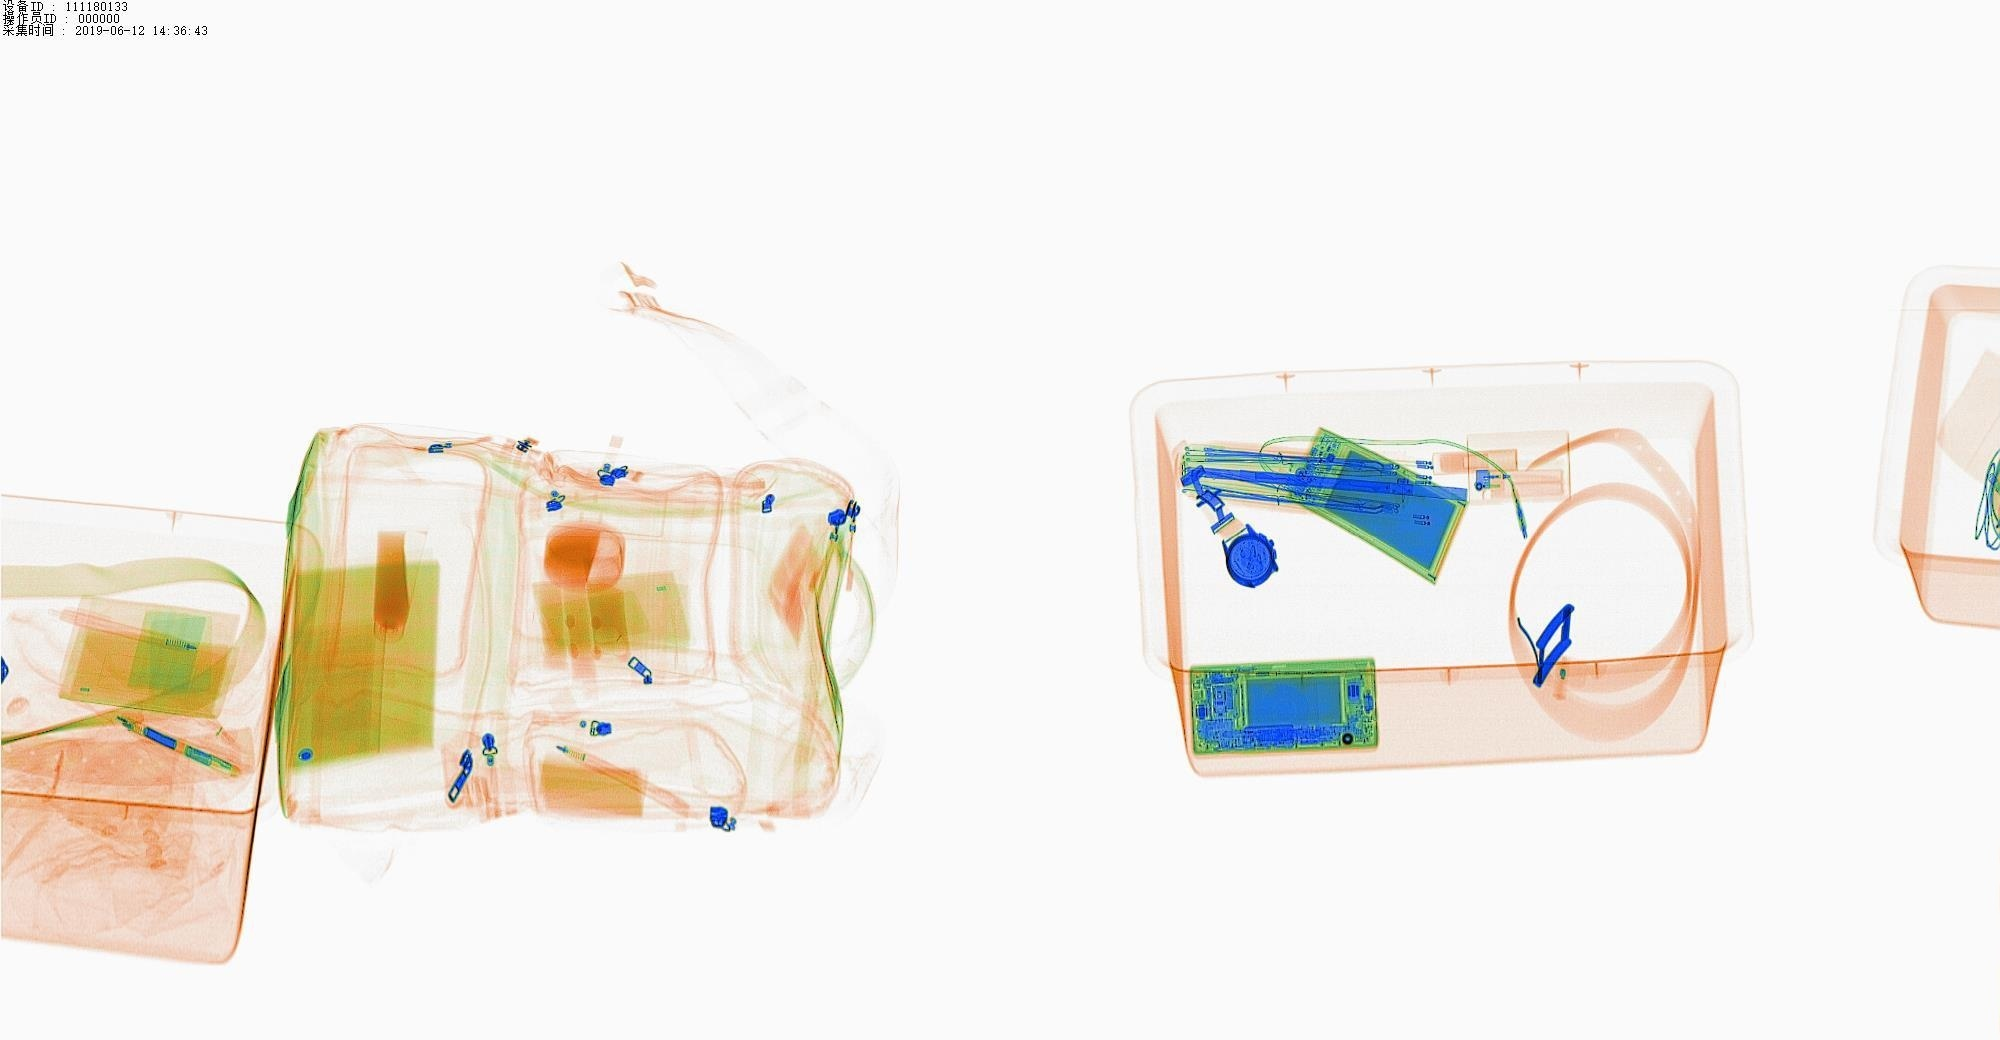NonmetallicFire: (1464, 466, 1582, 511)
